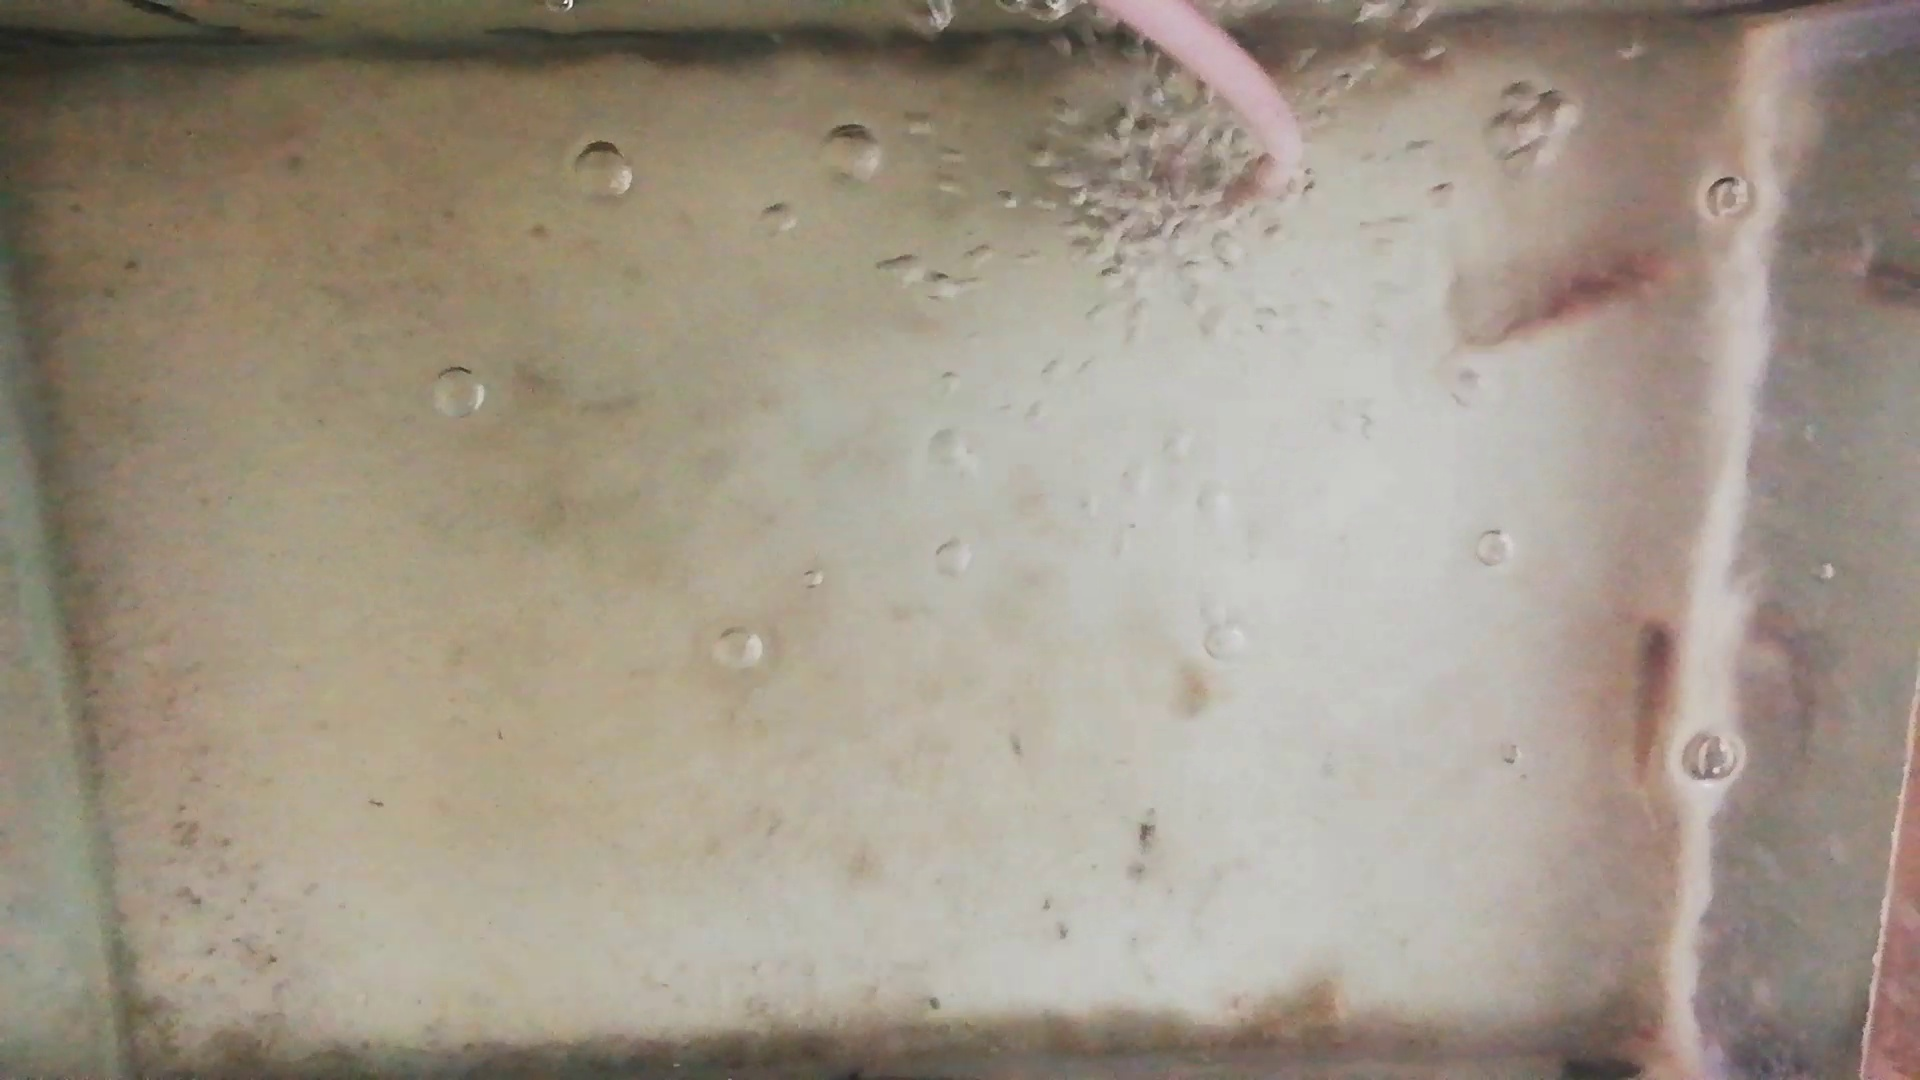fish: (1466, 253, 1677, 349), (1634, 621, 1679, 793)
